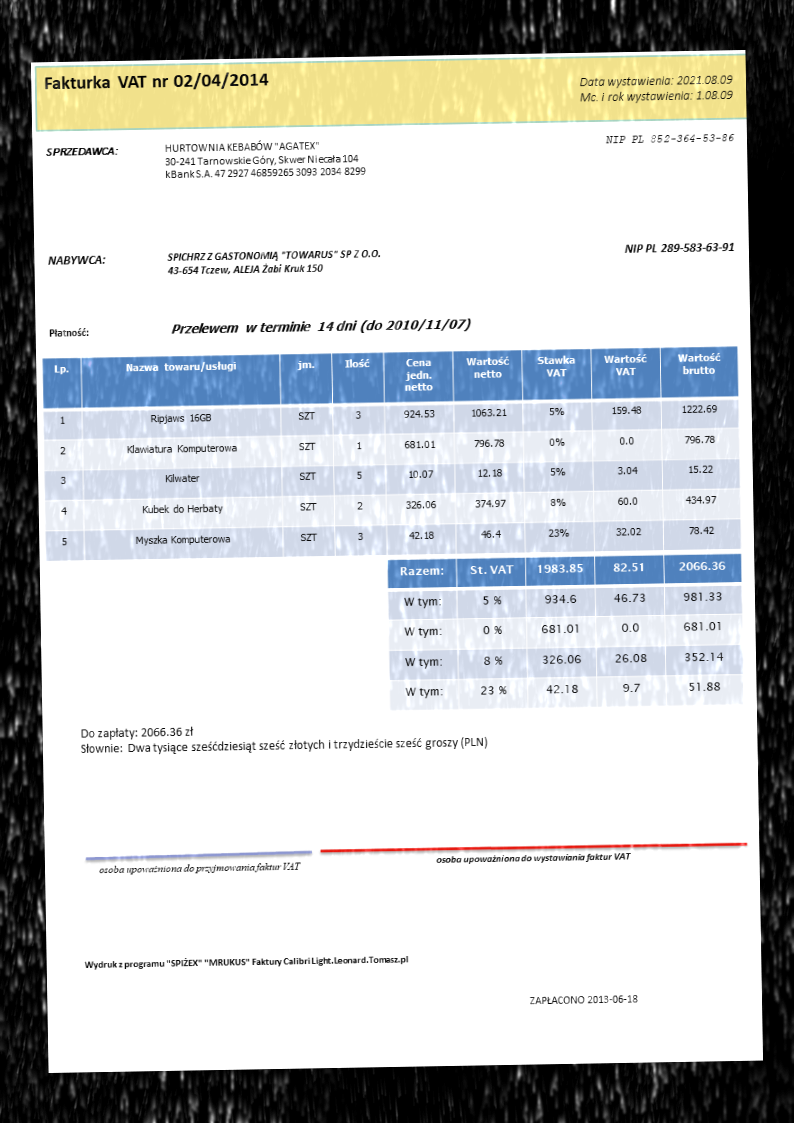Table: (41, 344, 742, 562), (386, 551, 744, 712)
TextBox: (78, 719, 489, 758), (162, 138, 368, 180), (168, 316, 473, 339), (165, 245, 382, 277), (83, 952, 411, 972), (42, 70, 271, 94), (578, 72, 736, 105), (96, 860, 303, 877), (435, 850, 632, 867), (602, 129, 736, 147), (623, 240, 737, 256), (527, 992, 641, 1006), (44, 143, 119, 158), (44, 251, 108, 267), (45, 325, 91, 339)
